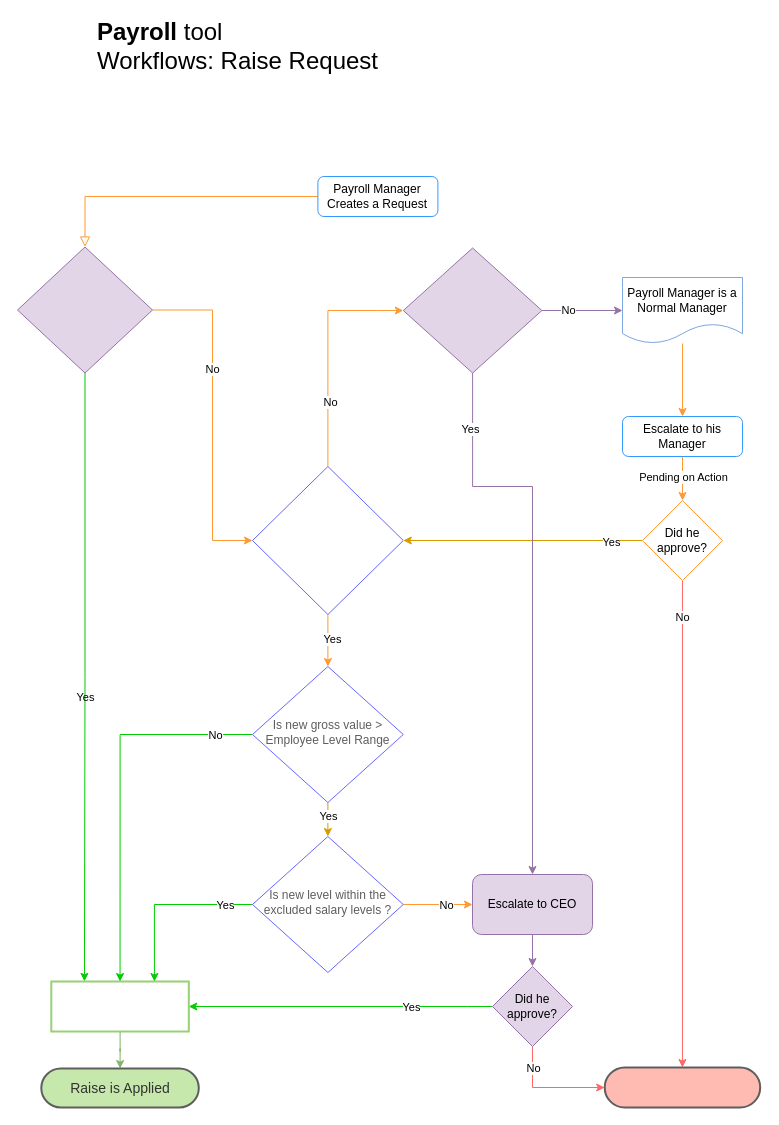
This 779x1125 diagram has some shape labels left out. Here are the shapes that lost their labels. From the top down, the box of each, then its label:
(16, 246, 152, 373): Is Payroll Manager a CEO
(402, 247, 542, 373): Reports to CEO
(252, 466, 403, 614): Is Payroll Manager a P&L?
(50, 980, 189, 1032): Finance team member take action
(603, 1066, 761, 1108): Request is Denied
